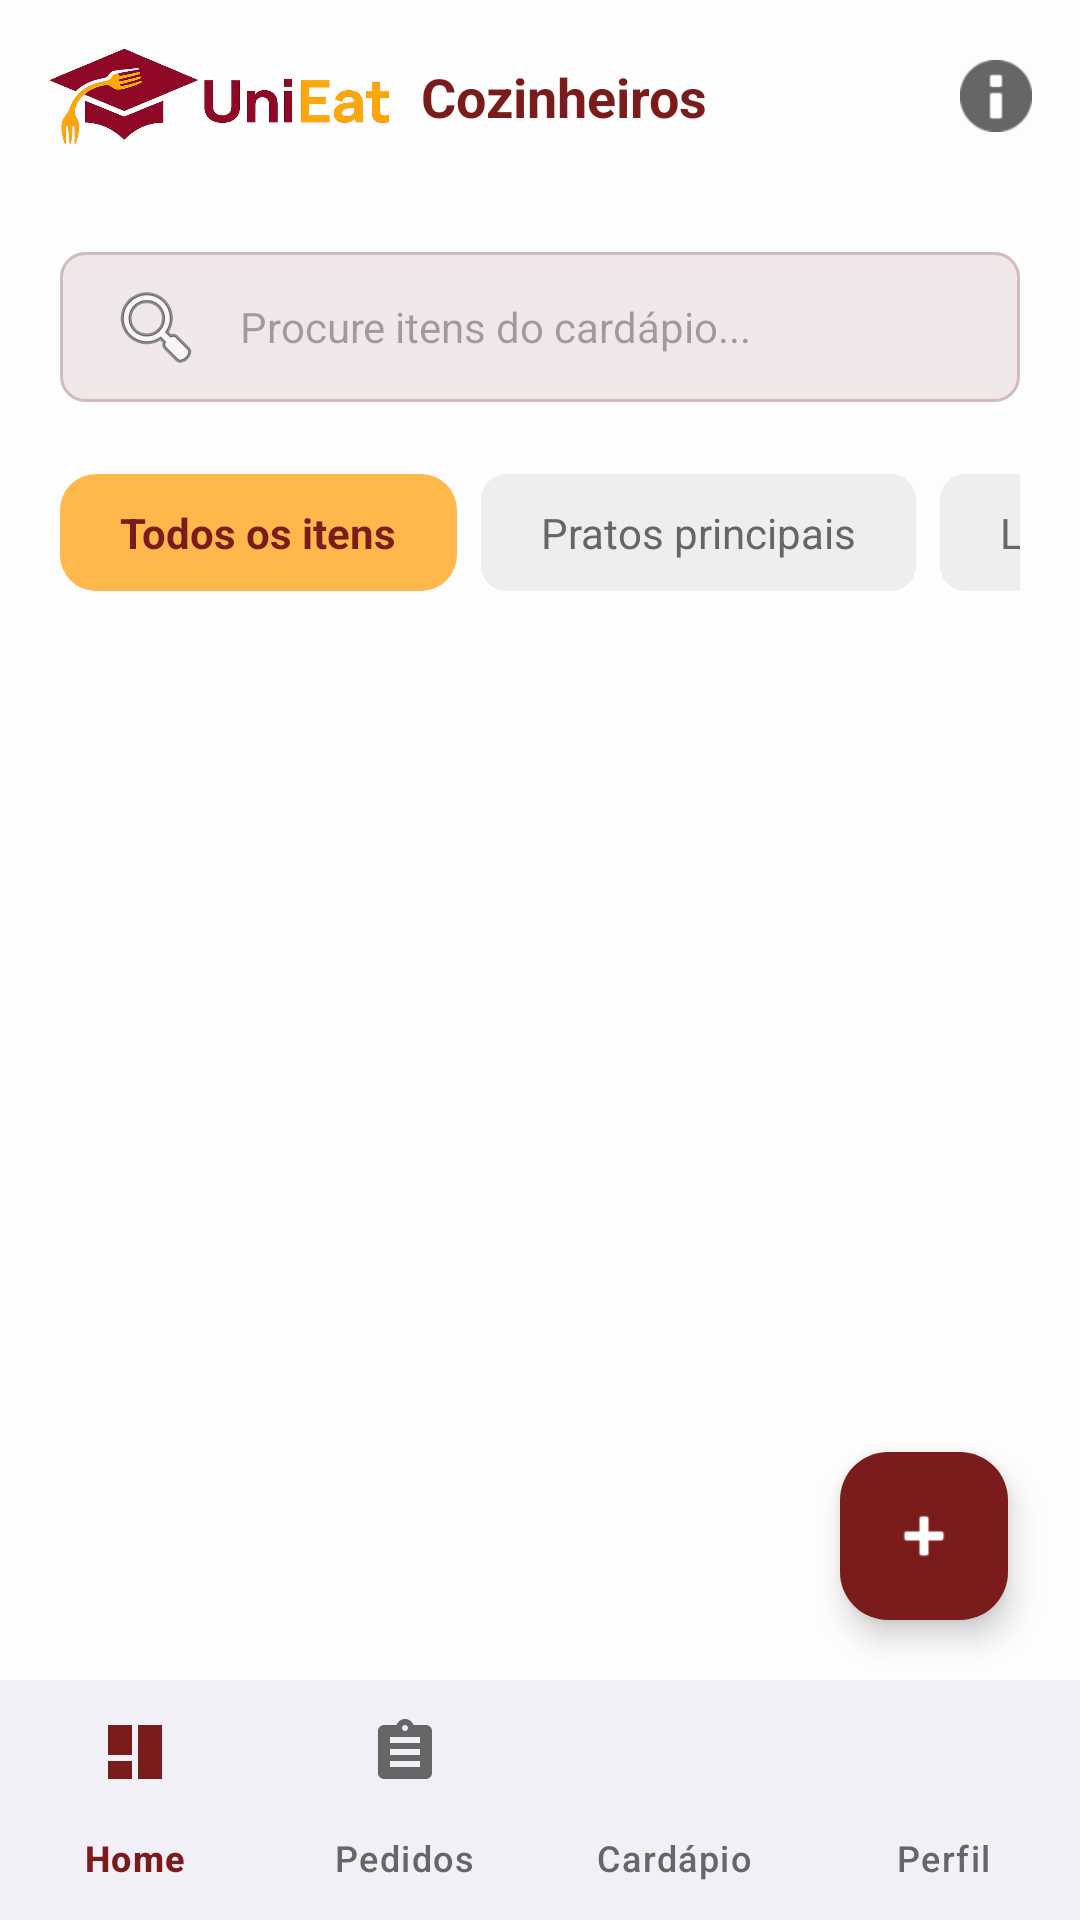

Point at icon controls on the screen. Image size 1080px×1920px, points as point (x, y).
add: point (924, 1536)
info: point (996, 96)
